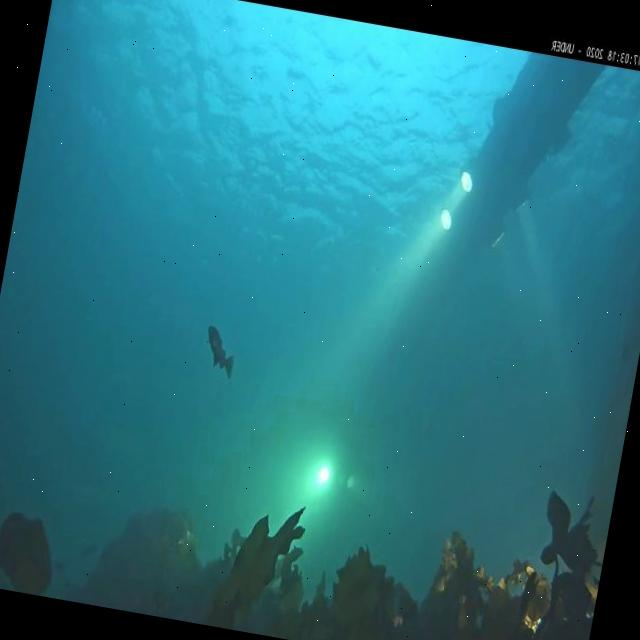fish: (200, 323, 240, 381)
